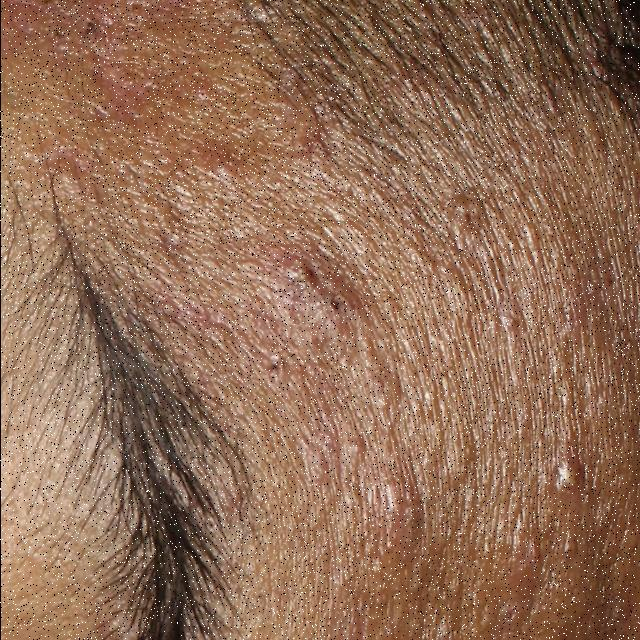nodules: (270, 226, 380, 375), (360, 450, 434, 555), (538, 432, 604, 526)
